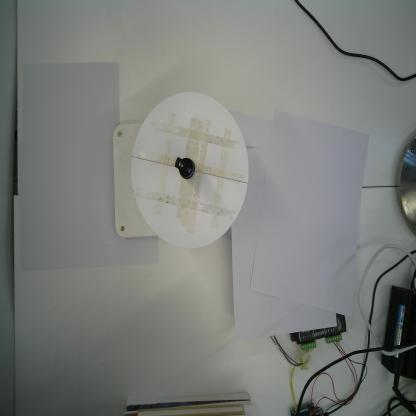Stationery: (174, 156, 196, 181)
